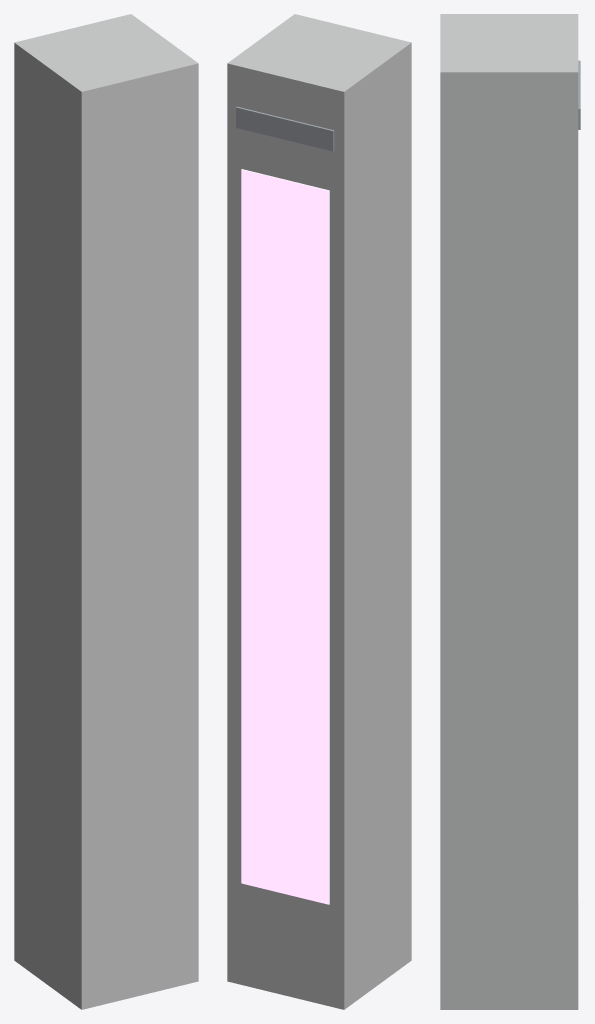
Rendered from obluchatel-retsirkulyator.glb.
The picture shows the model from 3 angles, left to right: view 1: azimuth 30°, elevation 25°; view 2: azimuth 150°, elevation 25°; view 3: azimuth 270°, elevation 25°; orthographic projection. The views are drawn at different scales.
Size of the model in its own units: 0.12 by 0.9 by 0.122.
